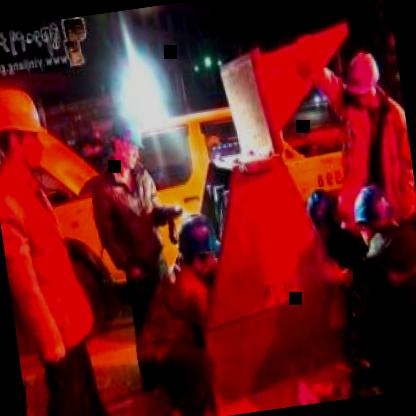helmet: (0, 74, 54, 181), (344, 182, 392, 250), (340, 48, 384, 112), (104, 110, 148, 172), (176, 212, 218, 274), (302, 184, 340, 242)
